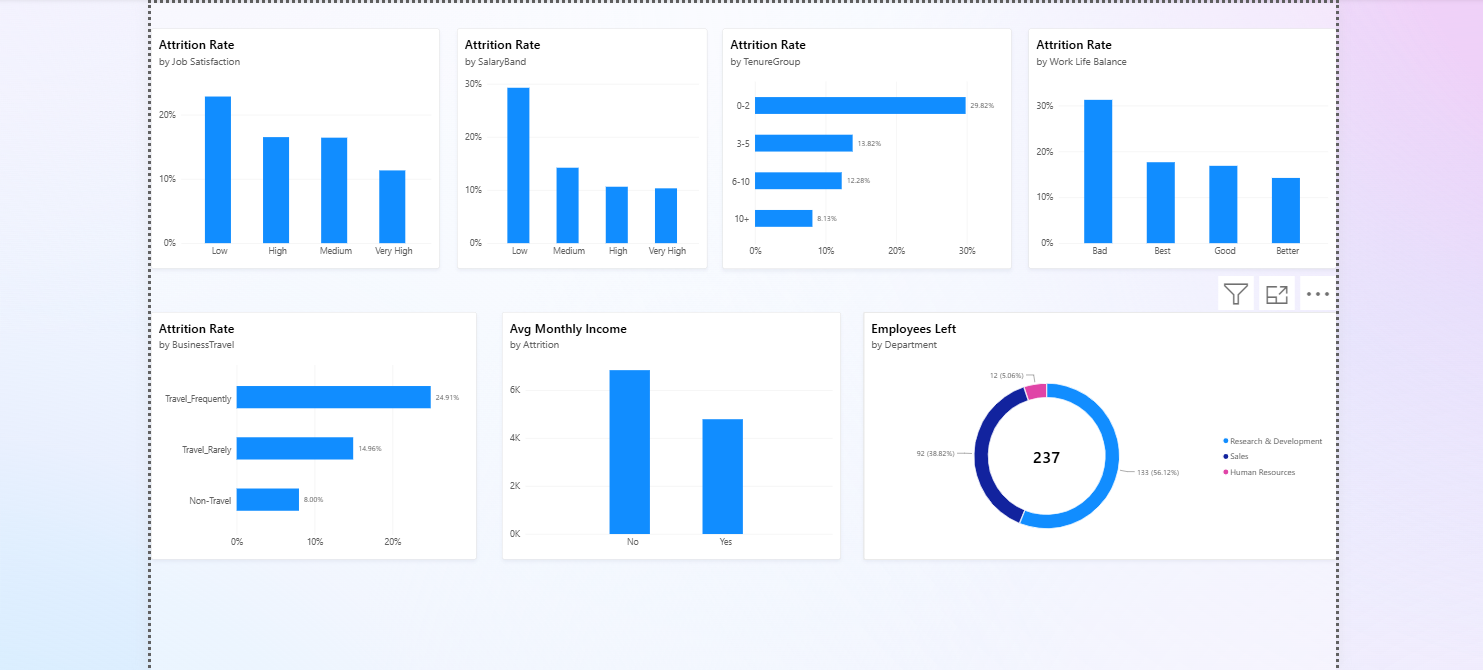

This screenshot's page, from the dashboard's own definition file:
{"tool":"powerbi","page":{"name":"Attrition Factors","canvas":[1920,1080],"ordinal":1},"visuals":[{"type":"clusteredColumnChart","title":"Attrition Rate ","fields":{"Category":["employees.JobSatisfactionLabel"],"Y":["employees.Attrition Rate"]},"box":[0,40.6,467.6,388.9],"z":0},{"type":"clusteredBarChart","fields":{"Category":["employees.BusinessTravel"],"Y":["employees.Attrition Rate"]},"box":[0,501,527.3,400.8],"z":1000},{"type":"barChart","fields":{"Category":["employees.TenureGroup"],"Y":["employees.Attrition Rate"]},"box":[925.7,40.6,468,389],"z":2000},{"type":"clusteredColumnChart","title":"Attrition Rate ","fields":{"Category":["employees.WorkLifeBalanceLabel"],"Y":["employees.Attrition Rate"]},"box":[1422,40.6,498.7,388.9],"z":3000},{"type":"clusteredColumnChart","fields":{"Category":["employees.Attrition"],"Y":["employees.Avg Monthly Income"]},"box":[567.8,501,548.8,400.8],"z":4000},{"type":"clusteredColumnChart","fields":{"Category":["employees.SalaryBand"],"Y":["employees.Attrition Rate"]},"box":[496.3,40.6,405.6,388.9],"z":5000},{"type":"donutChart","fields":{"Category":["employees.Department"],"Y":["employees.Employees Left"]},"box":[1154.8,501,765.9,400.8],"z":5001}]}

Visuals, with their boxes on the page's 1920x1080 design canvas (x1, y1, x2, y2). These are canvas units, not pixel positions in the 1483x670 screenshot, which may show the page scaled, cropped or inside an application window:
"Attrition Rate " clusteredColumnChart: pyautogui.locateOnScreen(0, 41, 468, 430)
clusteredBarChart - employees.BusinessTravel x employees.Attrition Rate: pyautogui.locateOnScreen(0, 501, 527, 902)
barChart - employees.TenureGroup x employees.Attrition Rate: pyautogui.locateOnScreen(926, 41, 1394, 430)
"Attrition Rate " clusteredColumnChart: pyautogui.locateOnScreen(1422, 41, 1921, 430)
clusteredColumnChart - employees.Attrition x employees.Avg Monthly Income: pyautogui.locateOnScreen(568, 501, 1117, 902)
clusteredColumnChart - employees.SalaryBand x employees.Attrition Rate: pyautogui.locateOnScreen(496, 41, 902, 430)
donutChart - employees.Department x employees.Employees Left: pyautogui.locateOnScreen(1155, 501, 1921, 902)
